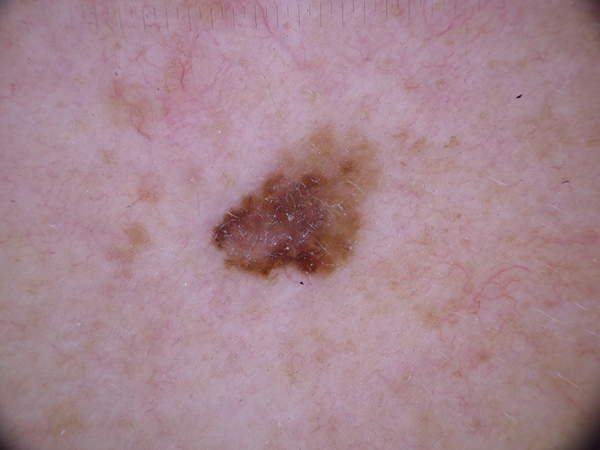Detected Lesion: (205, 126, 387, 289)
